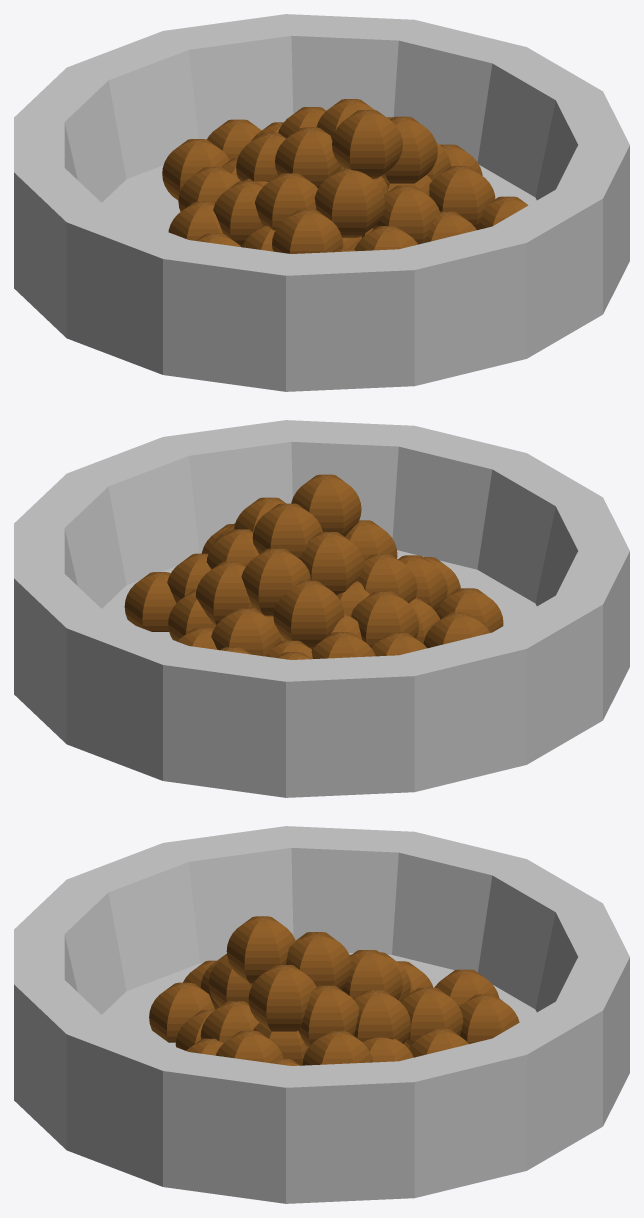
File: Cygnus Bowl.fbx
The picture shows the model from 3 angles, top to bottom: view 1: azimuth 30°, elevation 25°; view 2: azimuth 150°, elevation 25°; view 3: azimuth 270°, elevation 25°; orthographic projection.
Visible parts, largest first — view 1: Cylinder.001, Sphere.031; view 2: Cylinder.001, Sphere.031; view 3: Cylinder.001, Sphere.031.
Boxes of the visible parts, x1,y1,x2,y2 form: Cylinder.001: (14, 14, 629, 391); Sphere.031: (162, 99, 528, 253); Cylinder.001: (14, 420, 629, 797); Sphere.031: (124, 474, 503, 659); Cylinder.001: (14, 826, 629, 1203); Sphere.031: (149, 916, 519, 1065).
Bounding box in the file's own units: 63.45 × 20.45 × 63.1.
